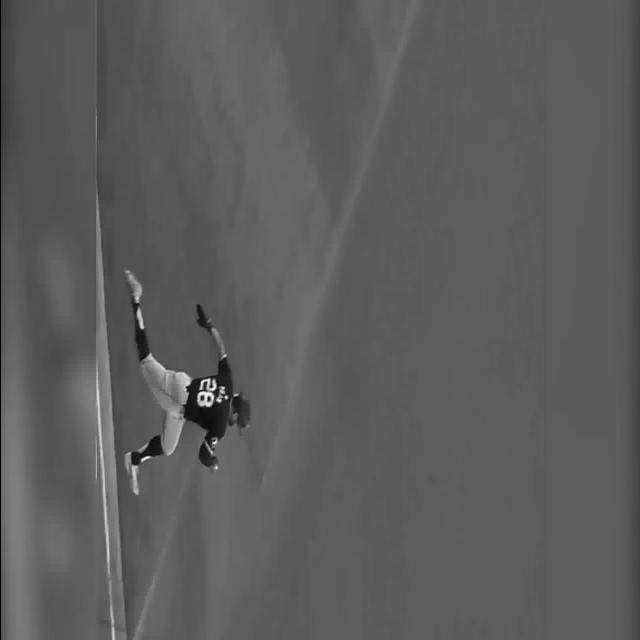shoe: (122, 451, 139, 496), (122, 269, 141, 305)
